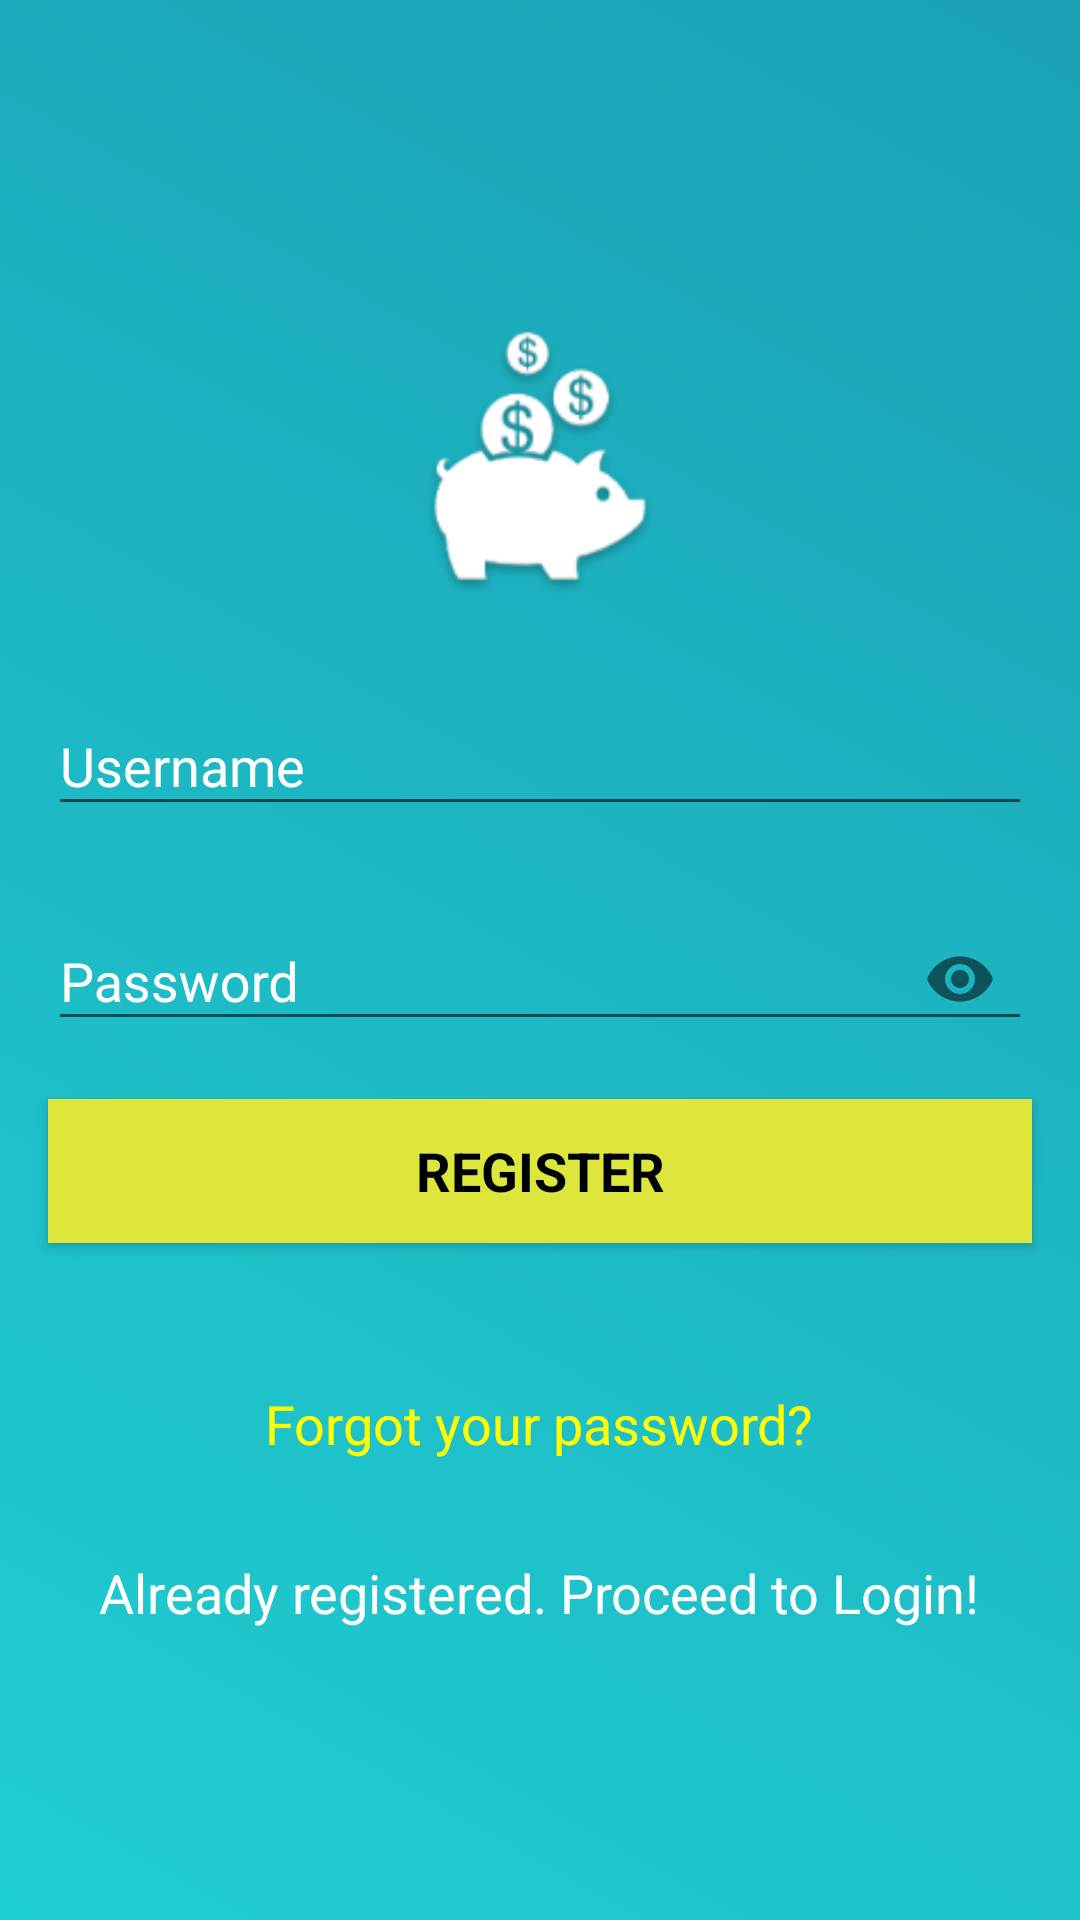

Where to tap for icons on this 1080px x 1920px app screen, as point (x, y):
piggy bank: point (540, 458)
